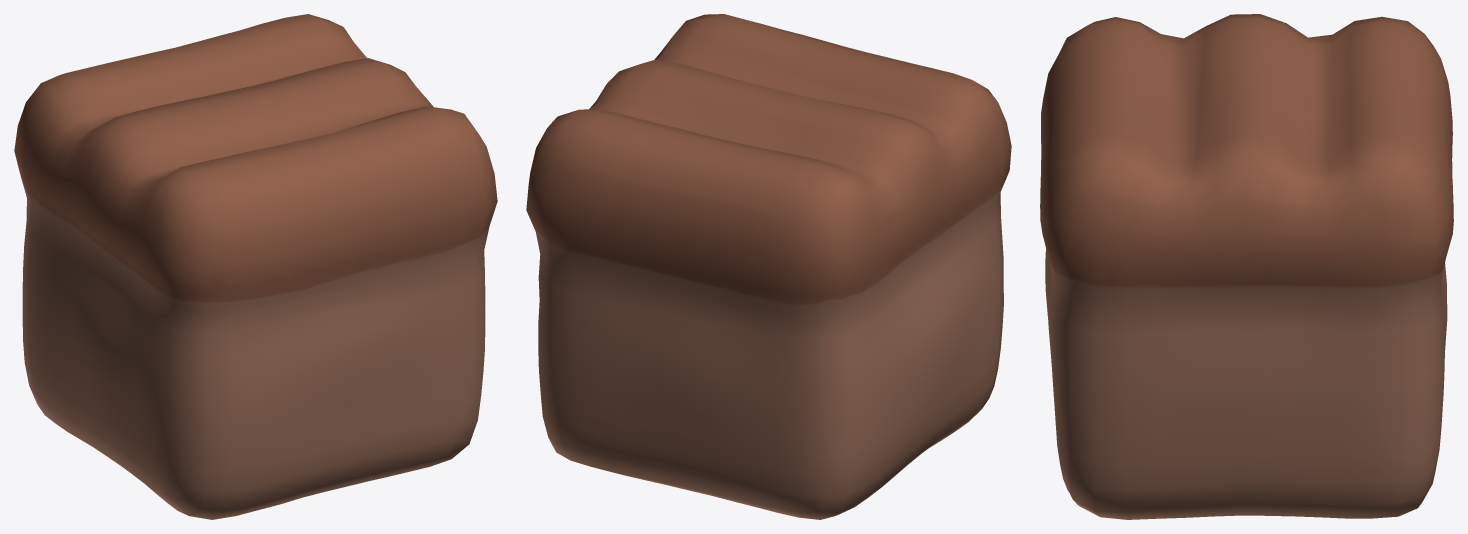
Rendered from FarmGrid1x1.fbx.
3 views of the same model, side by side, from view 1: azimuth 30°, elevation 25°; view 2: azimuth 150°, elevation 25°; view 3: azimuth 270°, elevation 25° (orthographic). The views are drawn at different scales.
Visible parts, largest first — view 1: LOW; view 2: LOW; view 3: LOW.
Boxes of the visible parts, x1,y1,x2,y2 form: LOW: (14,14,497,519); LOW: (526,14,1011,519); LOW: (1040,14,1453,519).
Bounding box in the file's own units: 1.03 × 1.02 × 1.02.
Materials: 1 (1 with a texture image).
